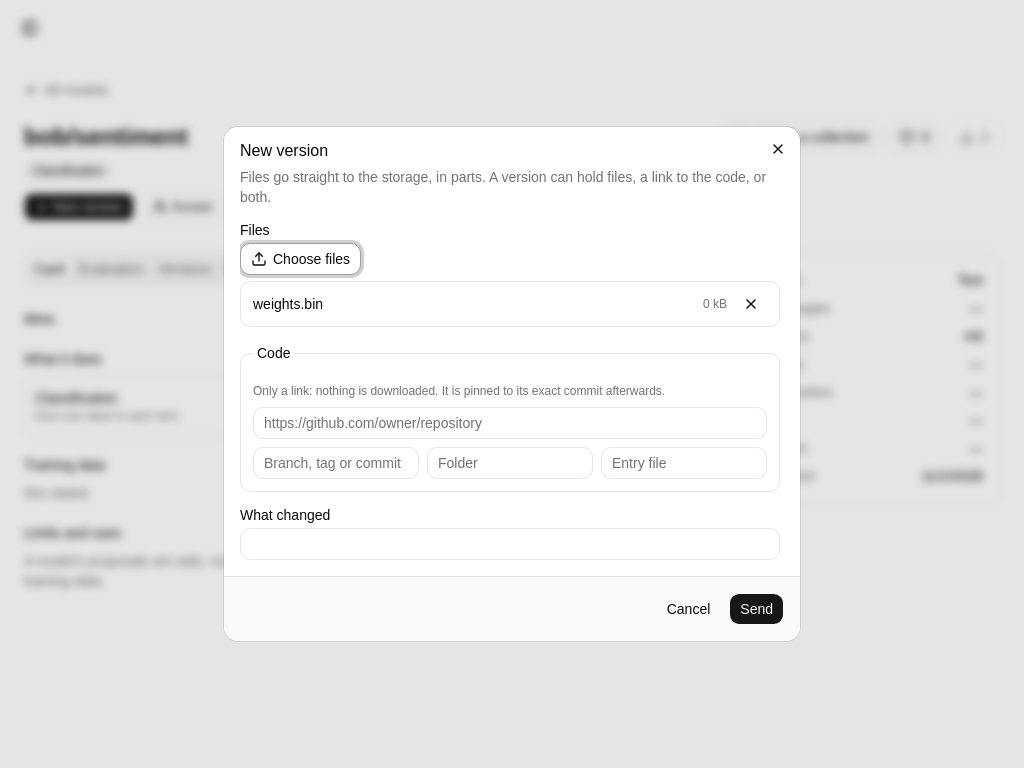
Test: sends the files in parts to the storage, completes, and says the version is being checked
Earlier steps of the test are not shown.
Expected: the text "weights.bin" is shown, [253,296,323,312]
Type "first weights" into the field labelled "What changed".
click(510, 544); type("first weights")  # box [240,528,780,560]
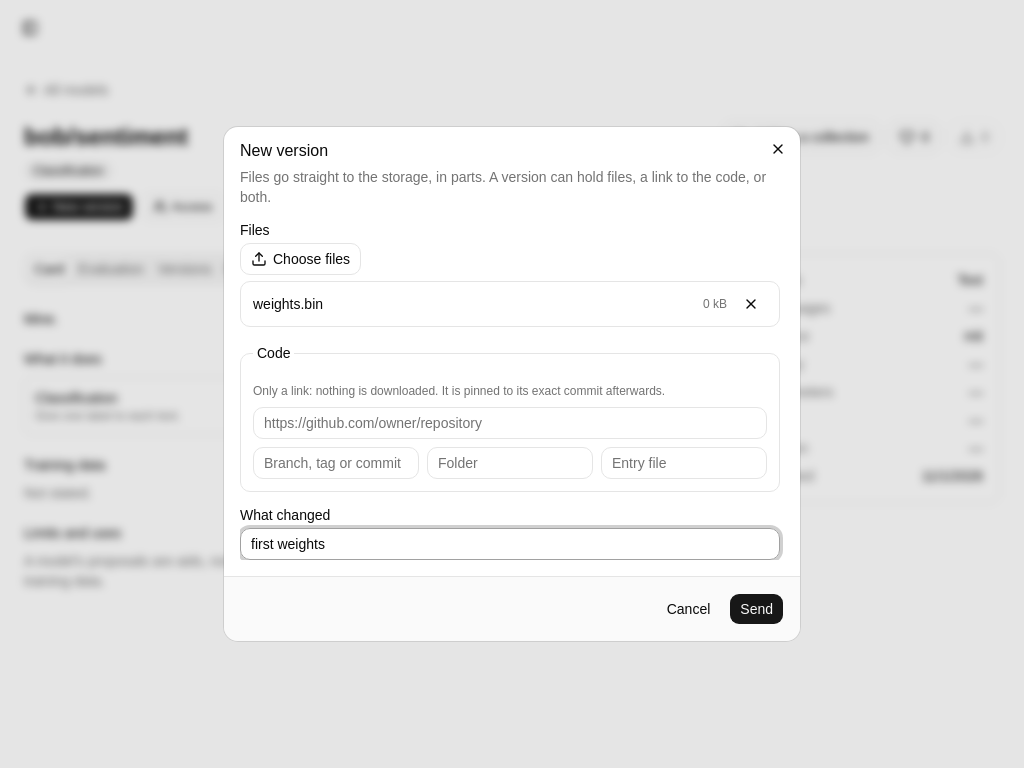
Click the button "Send".
click(757, 609)  # box [729,593,784,625]
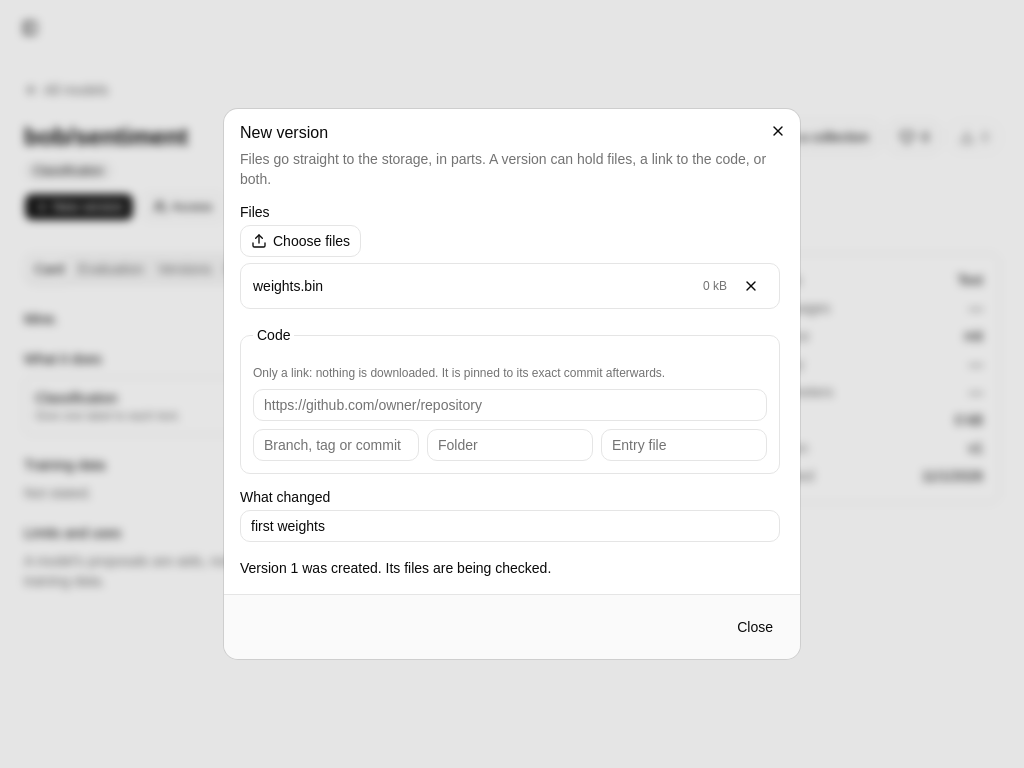
Expected: the text "Version 1 was created. Its files are being checked." is shown, [240,560,551,576]
